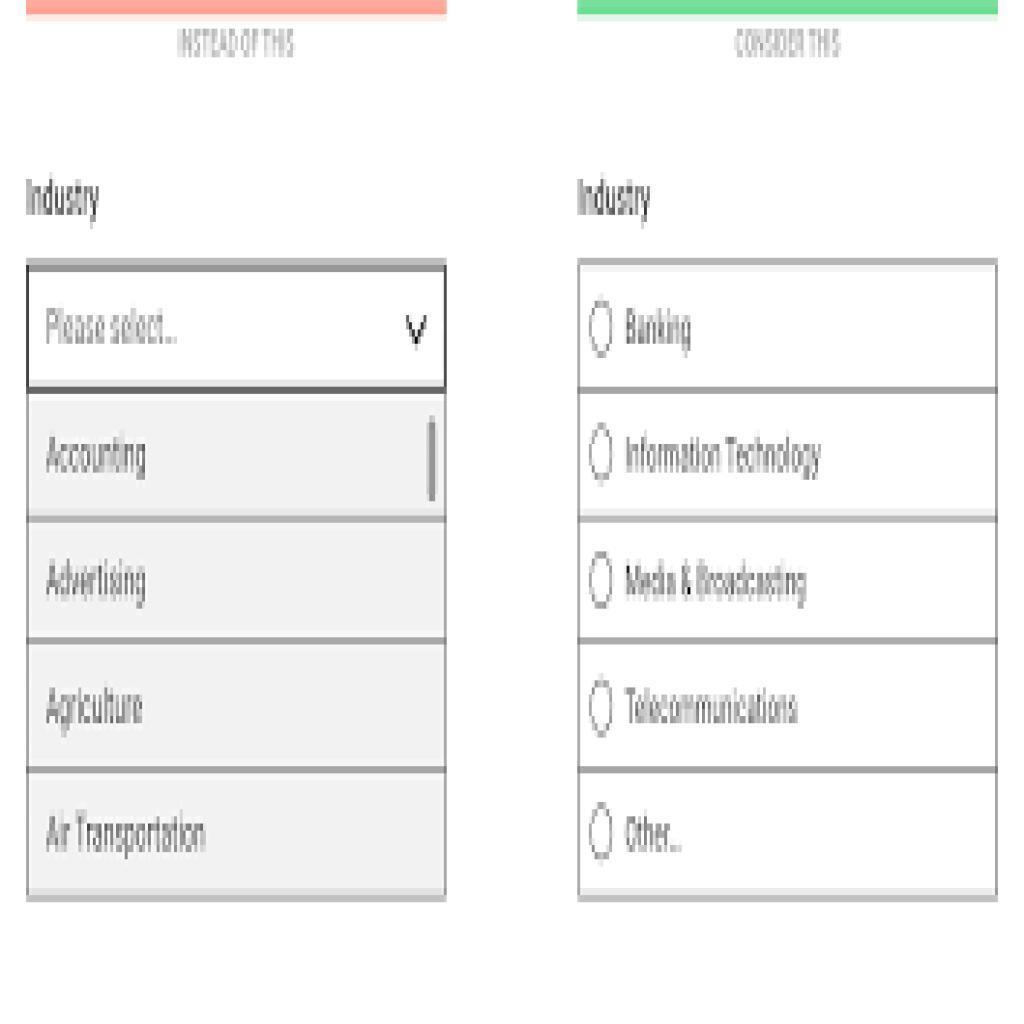dropdown: (27, 259, 451, 395)
radio: (586, 293, 620, 363), (586, 420, 618, 485), (588, 553, 618, 614), (588, 804, 618, 864), (591, 675, 619, 739)
